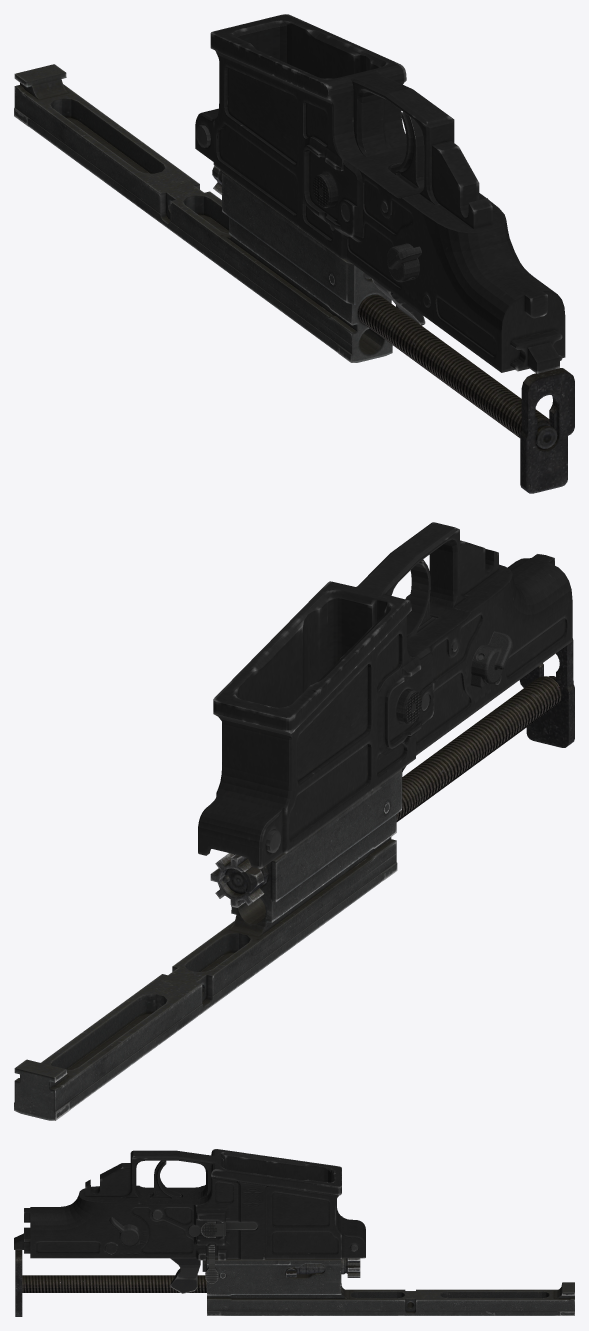
3 renders of one model, top to bottom at view 1: azimuth 30°, elevation 25°; view 2: azimuth 150°, elevation 25°; view 3: azimuth 270°, elevation 25°, orthographic. The views are drawn at different scales.
Parts seen in each view (by area): view 1: TW_676176d362e0497044079f4c_PZ_Import; view 2: TW_676176d362e0497044079f4c_PZ_Import; view 3: TW_676176d362e0497044079f4c_PZ_Import.
Boxes of the visible parts, x1,y1,x2,y2 form: TW_676176d362e0497044079f4c_PZ_Import: [14, 14, 574, 493]; TW_676176d362e0497044079f4c_PZ_Import: [14, 522, 574, 1120]; TW_676176d362e0497044079f4c_PZ_Import: [14, 1149, 574, 1316].
Bounding box in the file's own units: 0.0276 × 0.2339 × 0.0732.
Materials: 1 (1 with a texture image).
